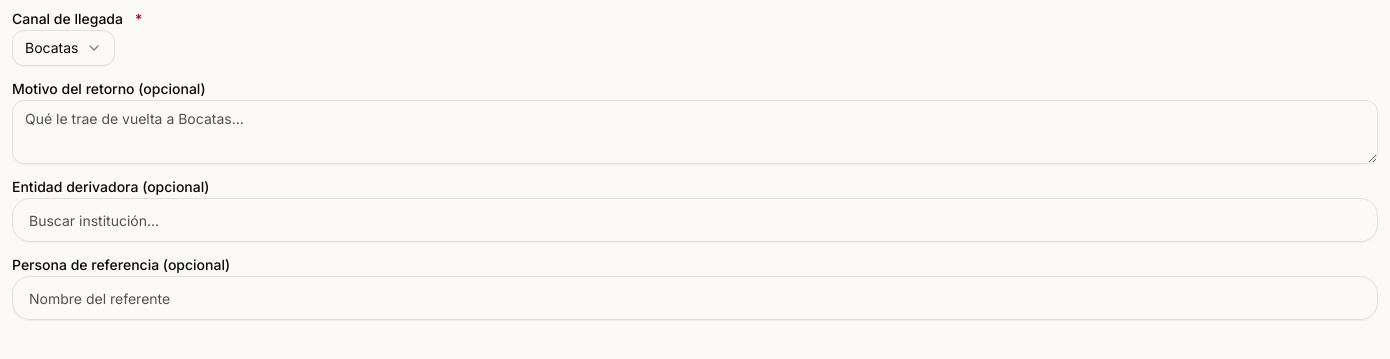
Test: Step0Canal — motivo del retorno › con canal «Bocatas» aparece y escribe en motivo_retorno
Type "Vuelve tras una temporada fuera" into the text box labelled "Motivo del retorno (opcional)".
click(695, 132); type("Vuelve tras una temporada fuera")  # box [12, 100, 1378, 164]
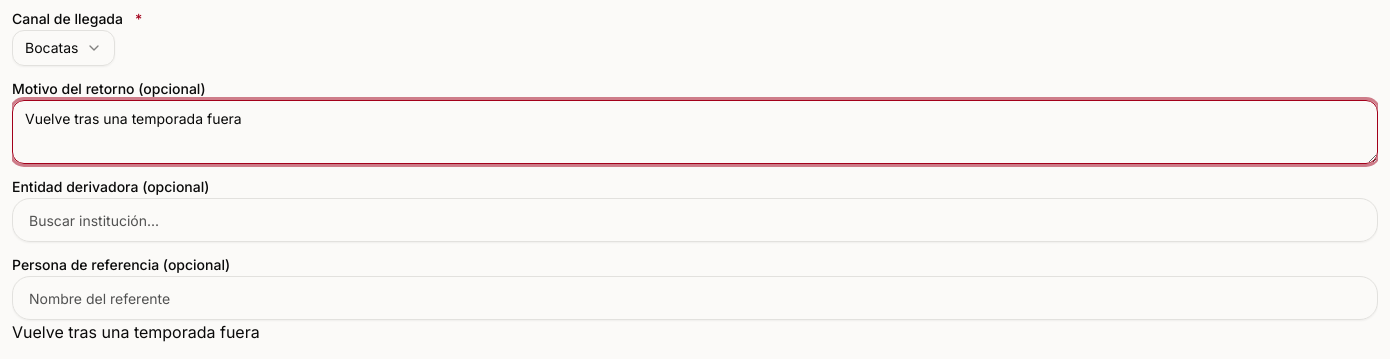
Now the text with test id "motivo-actual" reads "Vuelve tras una temporada fuera", box [12, 322, 260, 342]
